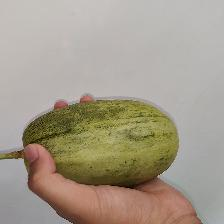gua: (39, 106, 168, 172)
